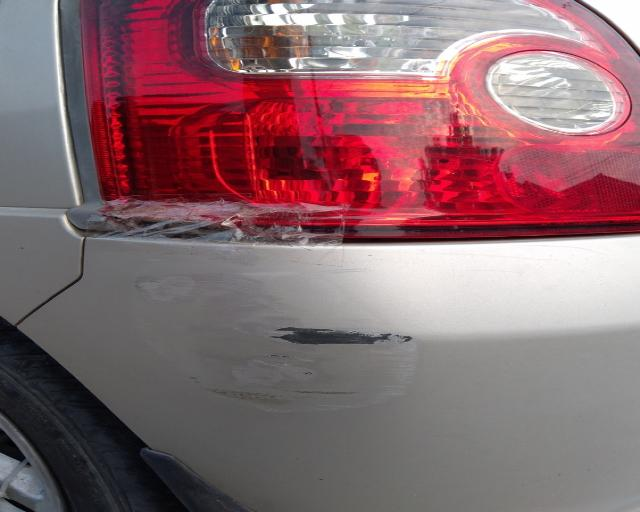scratch: (130, 251, 430, 416)
